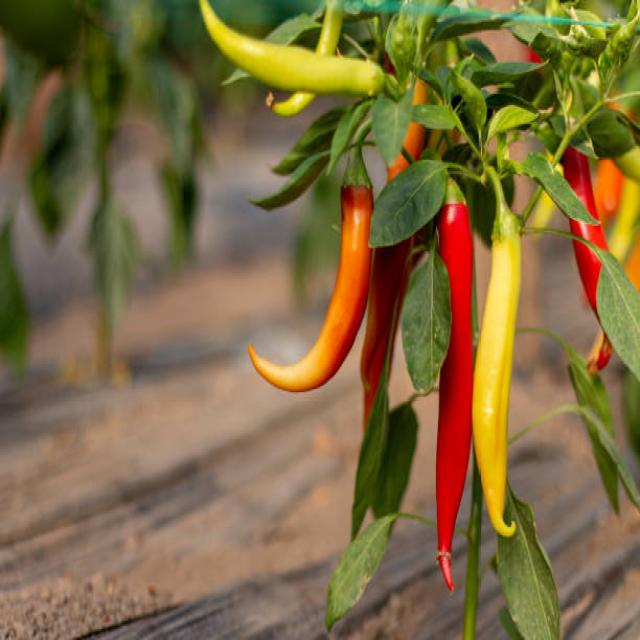Ripe: (250, 187, 374, 394), (437, 202, 472, 590)
Unripe: (200, 0, 384, 94), (473, 234, 520, 535)
